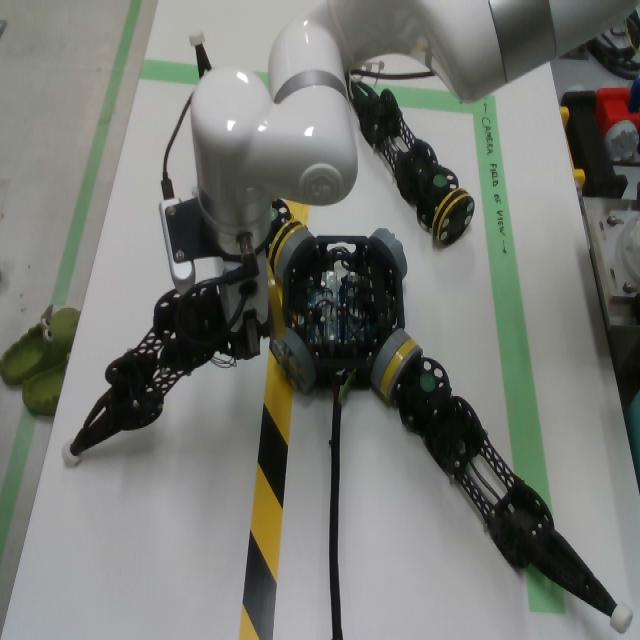body: (283, 236, 403, 391)
body_connector: (270, 328, 317, 396), (370, 329, 410, 388), (370, 228, 408, 280), (276, 228, 314, 277)
gripper: (218, 251, 268, 361)
leg: (380, 337, 634, 635), (60, 284, 243, 467), (350, 81, 476, 247), (265, 199, 304, 271), (258, 261, 286, 340), (189, 31, 214, 80), (215, 257, 242, 277)
leg_connector: (380, 340, 423, 400), (433, 188, 475, 245), (268, 220, 304, 275), (266, 263, 286, 340)
leg_marker: (420, 375, 434, 392), (433, 175, 447, 187), (272, 209, 278, 220)
